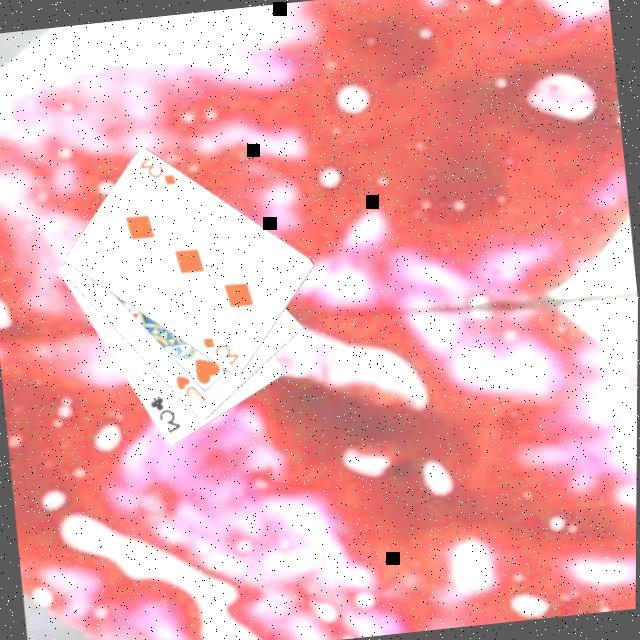3C: (147, 391, 187, 439)
3D: (200, 331, 246, 373), (136, 152, 181, 192)
JH: (173, 370, 212, 408)
